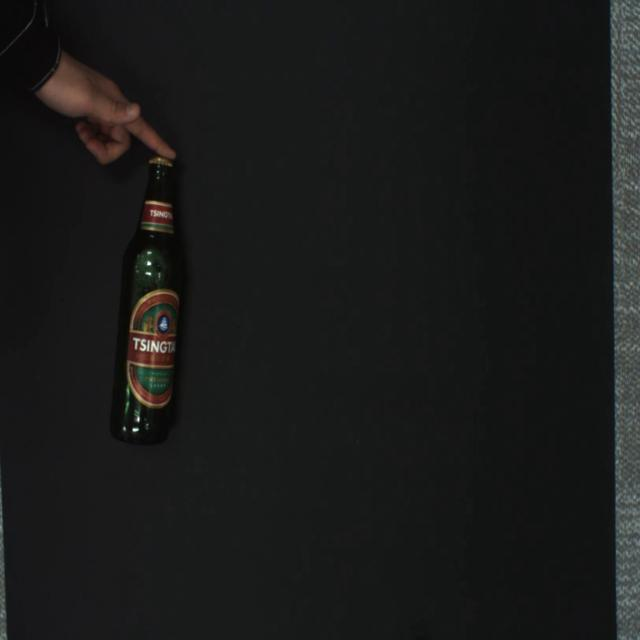beer-bottle: (110, 155, 183, 446)
